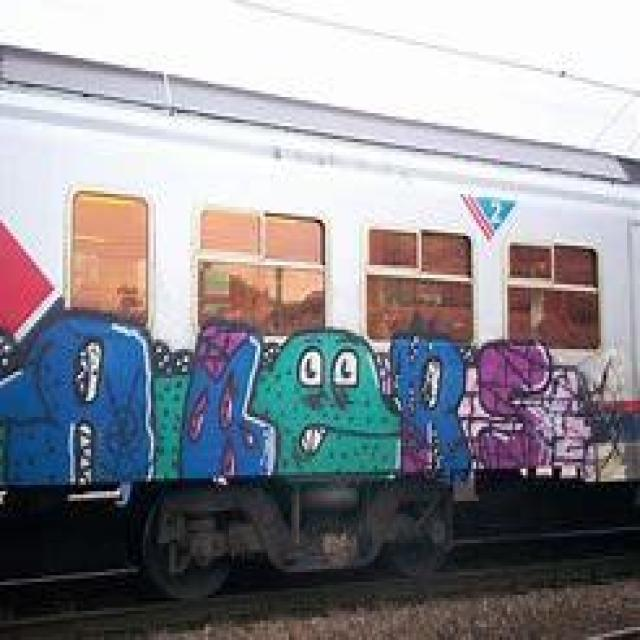nonspitting: (0, 307, 640, 485)
